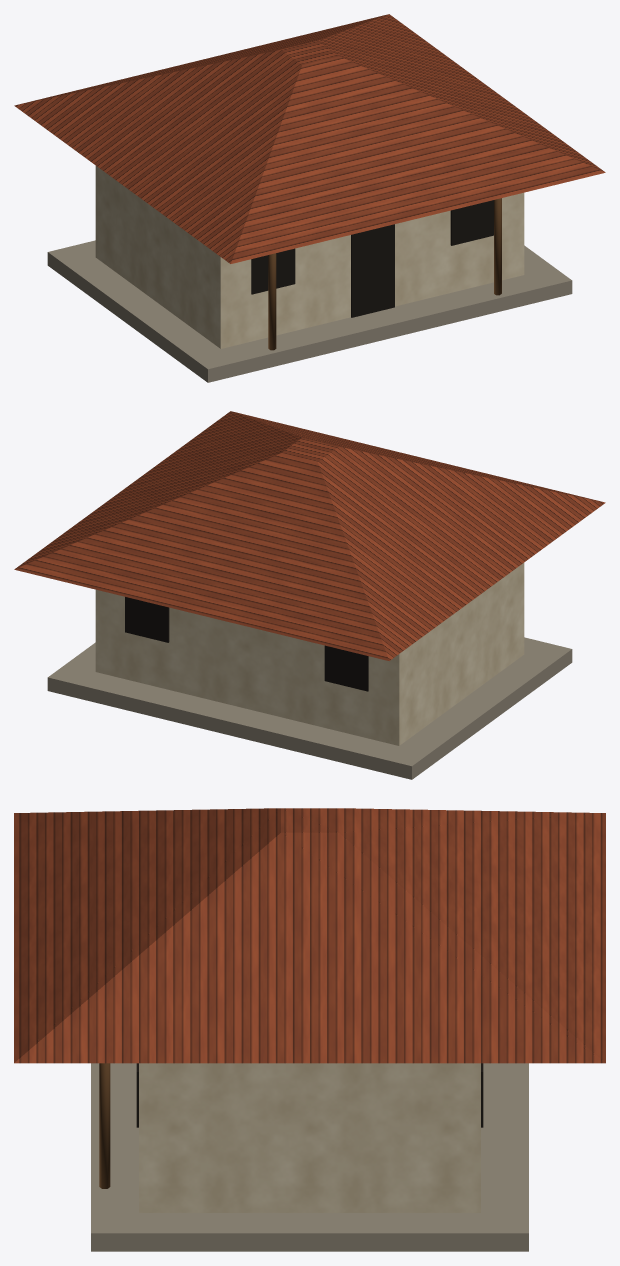
The model's file is house.glb.
3 renders of one model, top to bottom at view 1: azimuth 30°, elevation 25°; view 2: azimuth 150°, elevation 25°; view 3: azimuth 270°, elevation 25°, orthographic. The views are drawn at different scales.
Parts seen in each view (by area): view 1: House; view 2: House; view 3: House.
Boxes of the visible parts, box(x1,y1,x2,y2) form: House: box(14, 14, 605, 382); House: box(14, 411, 605, 779); House: box(14, 808, 605, 1251).
Size of the model in its own units: 8.65 by 5 by 8.65.
Materials: 5 (2 with a texture image).
